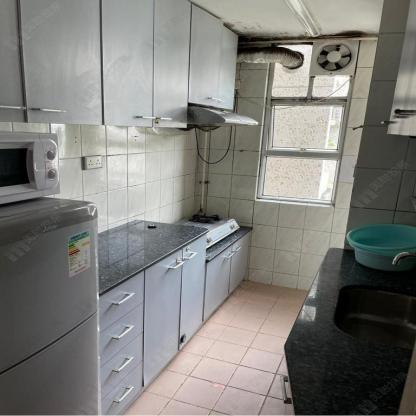Cupboard: (101, 231, 256, 415)
Exhaust Fan: (313, 41, 356, 74)
Exhaust Hood: (189, 107, 264, 131)
Fridge: (0, 197, 98, 413)
Microwave: (0, 120, 69, 206)
Sink: (332, 285, 414, 345)
Stove: (173, 213, 241, 248)
